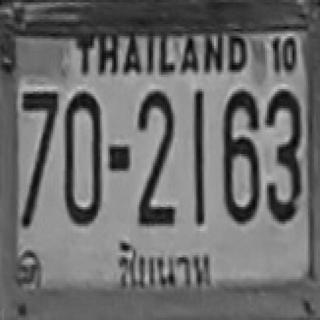N00: (63, 89, 100, 224)
N01: (192, 88, 202, 199)
N02: (136, 89, 174, 214), (135, 89, 173, 209)
N03: (263, 88, 300, 220)
N06: (222, 88, 257, 223)
N07: (22, 90, 57, 218), (22, 89, 57, 180), (22, 89, 57, 171)
P08: (109, 238, 215, 295)
